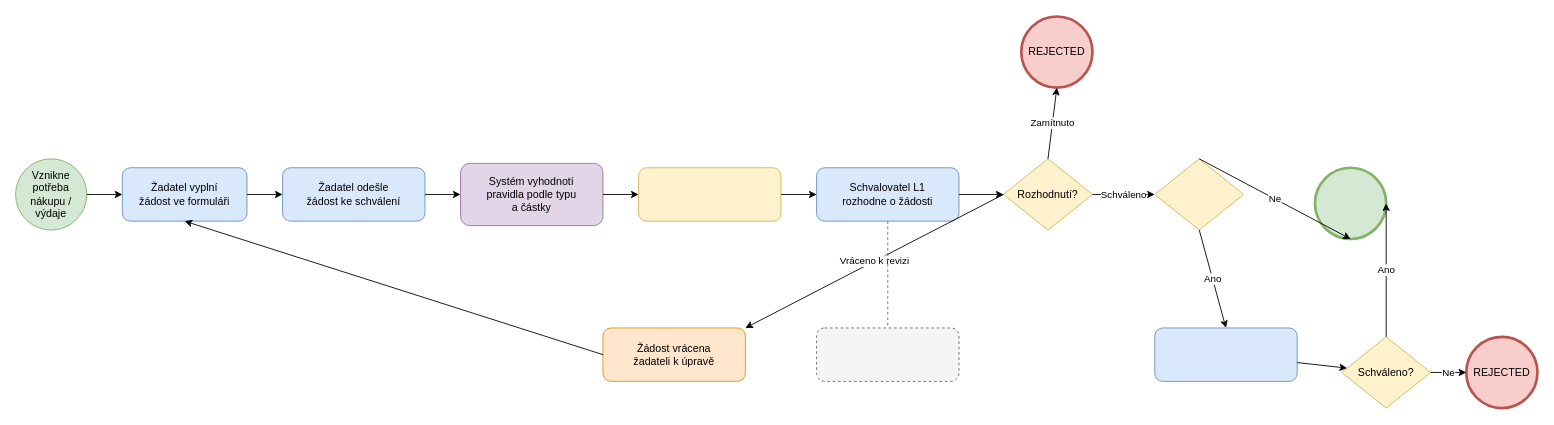
Image size: 1554x425. Some labels were removed from this diagram. Here are the shapes that lost their labels. From the top down, the centre of each, then its label:
the point at 709,194: Schvalovatel obdrží e-mailovou notifikaci
the point at 1199,194: Vyžaduje 2. krok?
the point at 1350,203: APPROVED
the point at 887,354: Audit log: záznam akce
the point at 1225,354: Schvalovatel L2 rozhodne o žádosti
